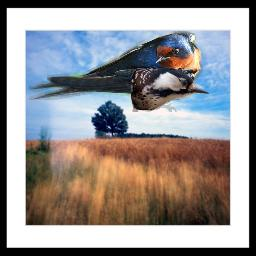Swallow: (29, 31, 203, 100)
Woodpecker: (131, 63, 209, 112)
